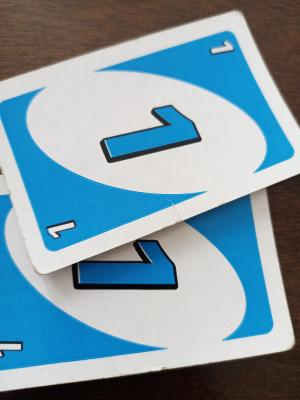blue: (6, 219, 264, 352)
num_1: (18, 85, 279, 174), (42, 214, 79, 243), (208, 37, 236, 61)
